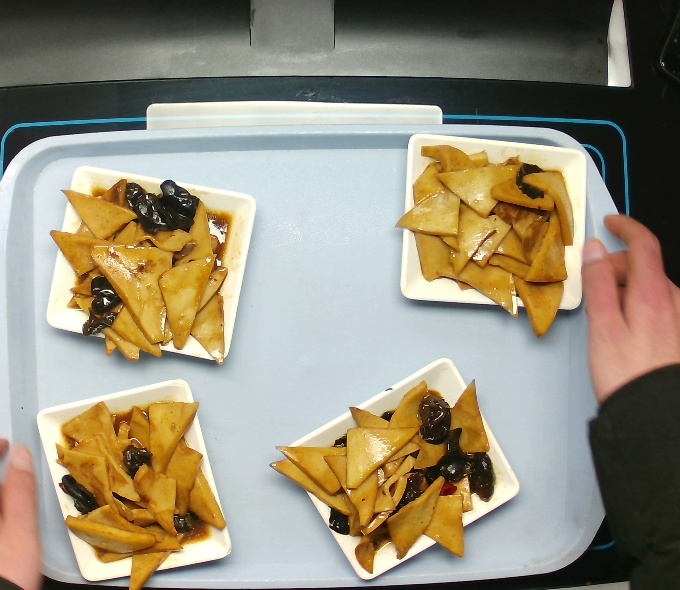wcq-QianYeDouFuChaoMuEr: (278, 382, 500, 570), (50, 182, 240, 367), (404, 150, 586, 334), (57, 405, 219, 561)
